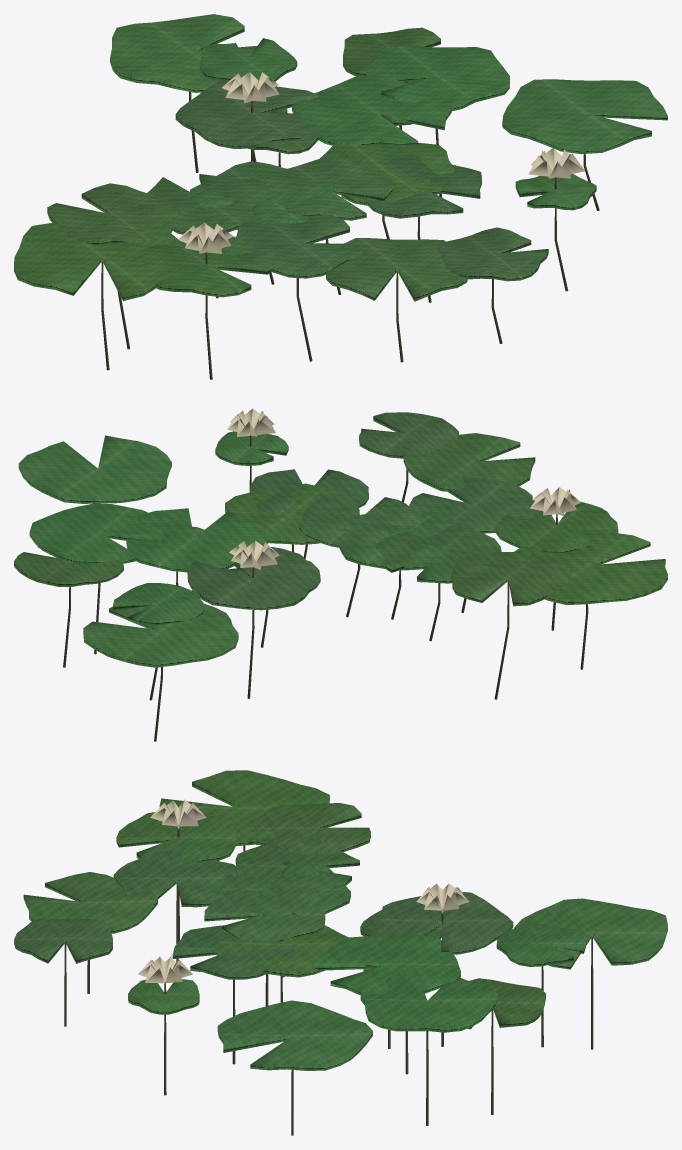
File: PZ_LilyPads_Patch_B.glb
3 renders of one model, top to bottom at view 1: azimuth 30°, elevation 25°; view 2: azimuth 150°, elevation 25°; view 3: azimuth 270°, elevation 25°, orthographic. The views are drawn at different scales.
Parts seen in each view (by area): view 1: LilyPad_Individual_NotchedDiscs_Batched, WaterLily_Blossoms_IndividualPetals, LilyPad_Submerged_CurvedPetioles; view 2: LilyPad_Individual_NotchedDiscs_Batched, WaterLily_Blossoms_IndividualPetals, LilyPad_Submerged_CurvedPetioles; view 3: LilyPad_Individual_NotchedDiscs_Batched, WaterLily_Blossoms_IndividualPetals, LilyPad_Submerged_CurvedPetioles.
Part boxes in pixels (x1,y1,x2,y2): LilyPad_Individual_NotchedDiscs_Batched: [14, 14, 667, 301]; WaterLily_Blossoms_IndividualPetals: [178, 71, 584, 253]; LilyPad_Submerged_CurvedPetioles: [101, 91, 599, 379]; LilyPad_Individual_NotchedDiscs_Batched: [14, 412, 667, 667]; WaterLily_Blossoms_IndividualPetals: [227, 408, 580, 569]; LilyPad_Submerged_CurvedPetioles: [63, 435, 588, 741]; LilyPad_Individual_NotchedDiscs_Batched: [14, 770, 667, 1070]; WaterLily_Blossoms_IndividualPetals: [138, 799, 469, 984]; LilyPad_Submerged_CurvedPetioles: [64, 825, 593, 1135].
Bounding box in the file's own units: 3.6 × 0.8938 × 3.34.
Materials: 3 (3 with a texture image).
